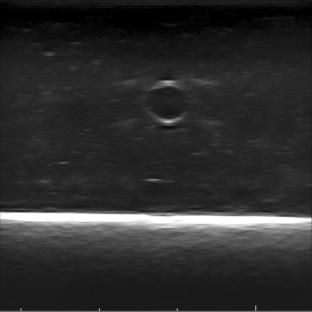vessel: (140, 79, 190, 125)
